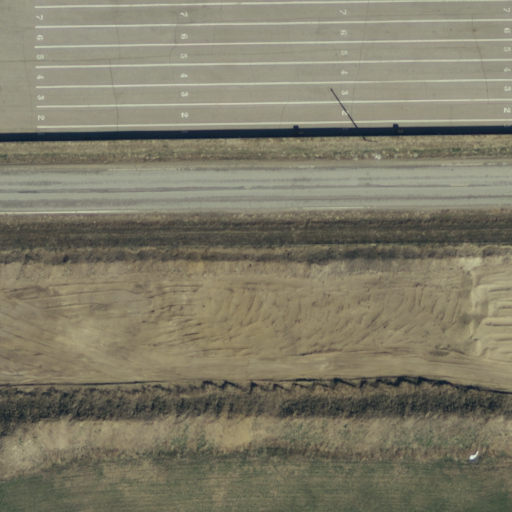DT: (353, 124, 384, 153)
